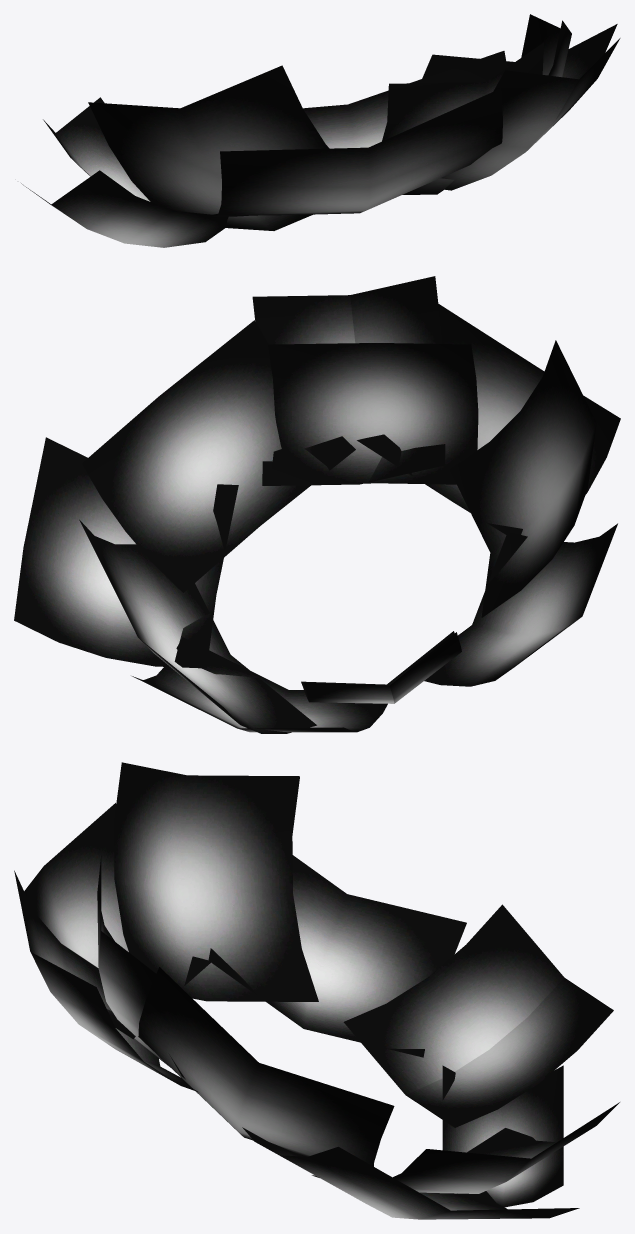
Rendered from vfx_kurp_0390.dae.
The picture shows the model from 3 angles, top to bottom: view 1: azimuth 30°, elevation 25°; view 2: azimuth 150°, elevation 25°; view 3: azimuth 270°, elevation 25°; orthographic projection. The views are drawn at different scales.
Visible parts, largest first — view 1: vfx_kurp_0390; view 2: vfx_kurp_0390; view 3: vfx_kurp_0390.
Boxes of the visible parts, <box> form: vfx_kurp_0390: <box>21,14,620,247</box>; vfx_kurp_0390: <box>14,276,620,733</box>; vfx_kurp_0390: <box>14,762,619,1219</box>.
Bounding box in the file's own units: 10.13 × 8.55 × 5.33.
1 material, 1 textured.
